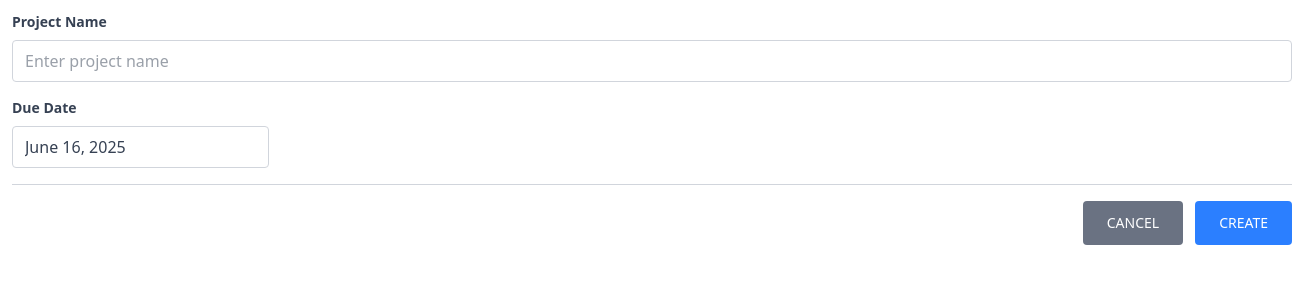
CreateProjectForm › shows error when submitting with empty project name
The width and height of the screenshot is (1304, 302).
Click the button "Create" at point(1244, 223), box top-left (1195, 201), bottom-right (1292, 245)
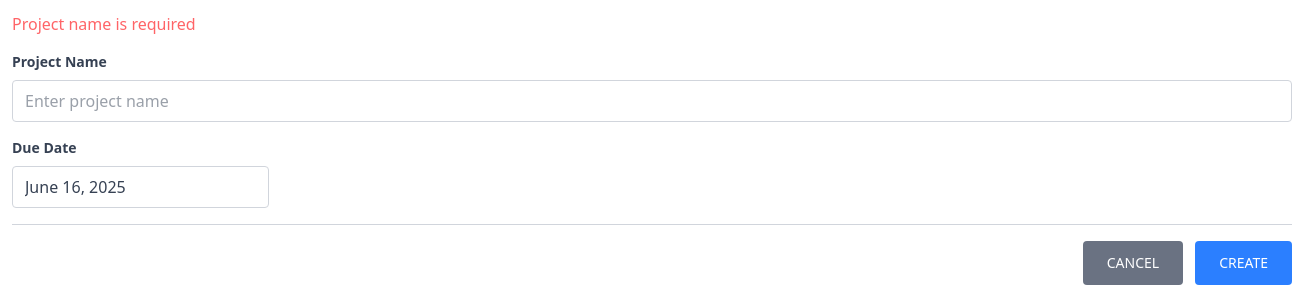
Now the text "Project name is required" is shown, box top-left (12, 13), bottom-right (196, 35)
